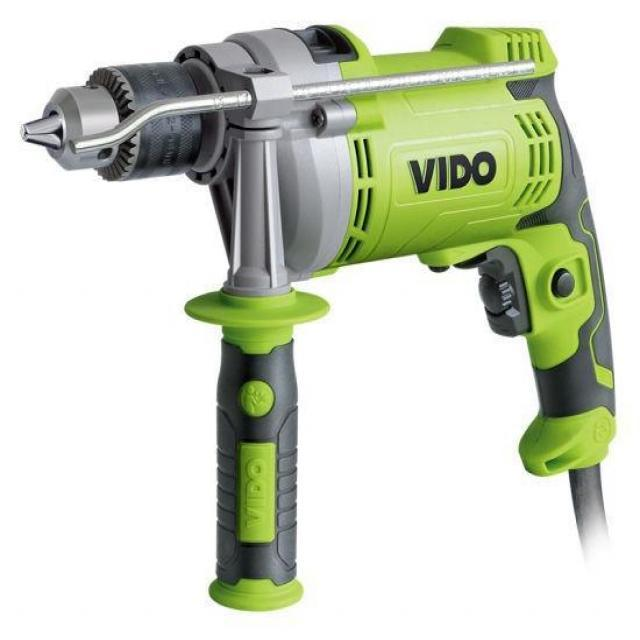drill: (19, 23, 619, 613)
